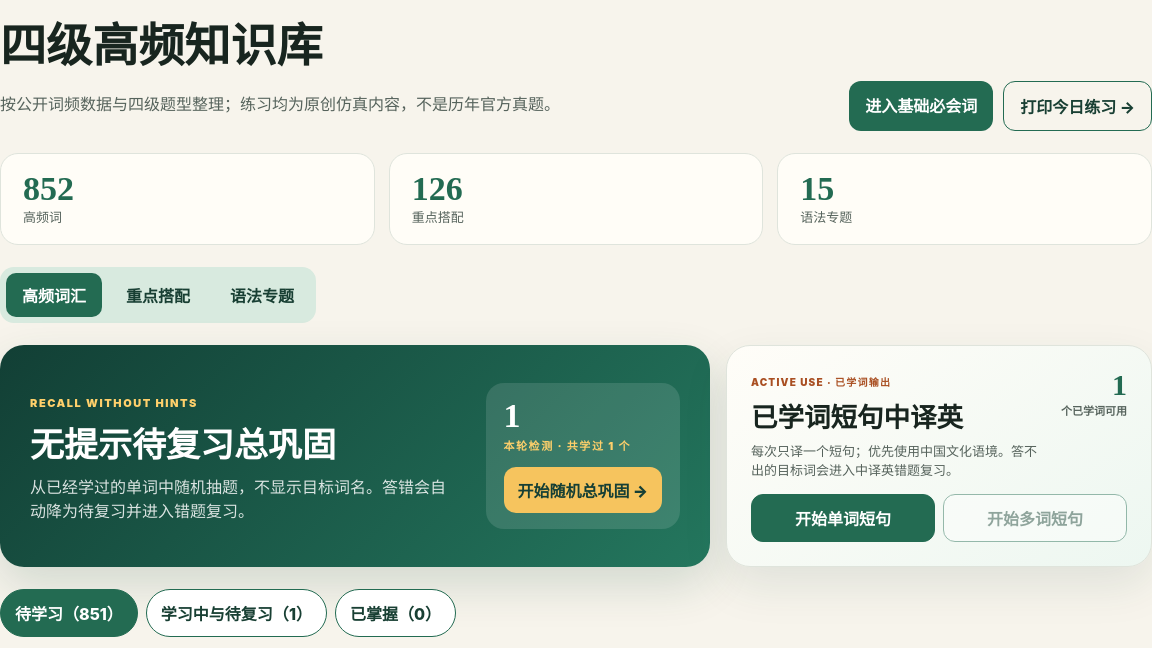
Test: KnowledgePage › does not create a mistake when a meaning answer reaches the displayed threshold
Click the button with aria-label "开始待复习词总巩固" at (583, 490), box [504,467,662,513]
(page scrolled)
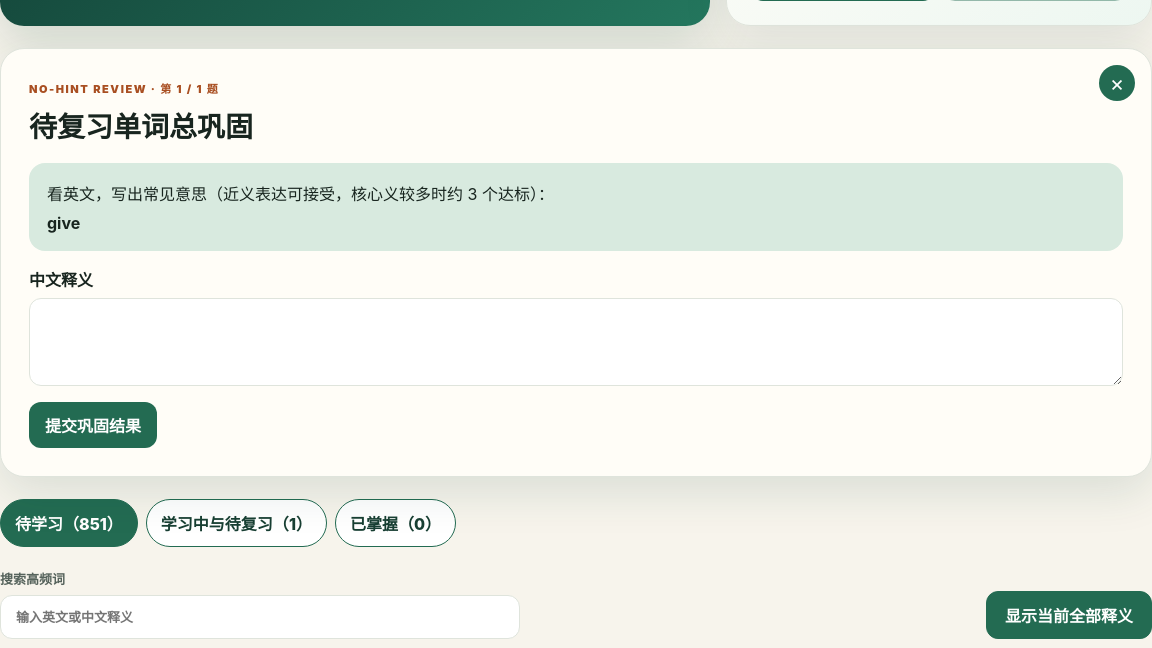
Type "给；通过；举办；让步" into the text box named "中文释义答案" at (576, 342), box [29,298,1123,386]
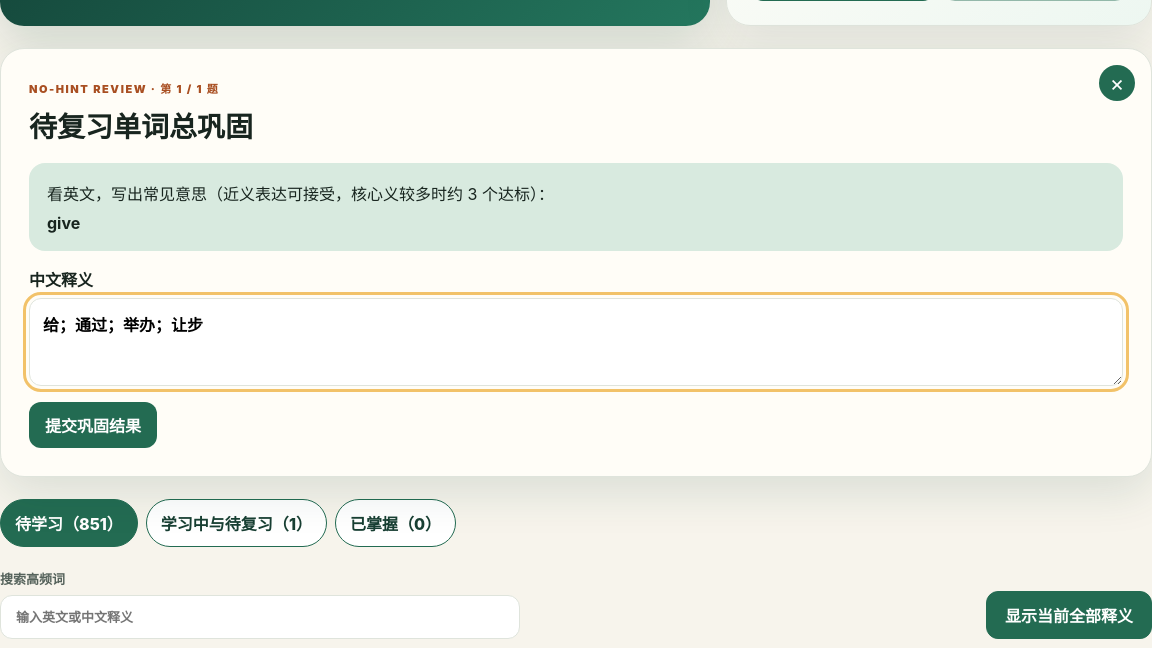
Click the button "提交巩固结果" at (93, 425), box [29,402,157,448]
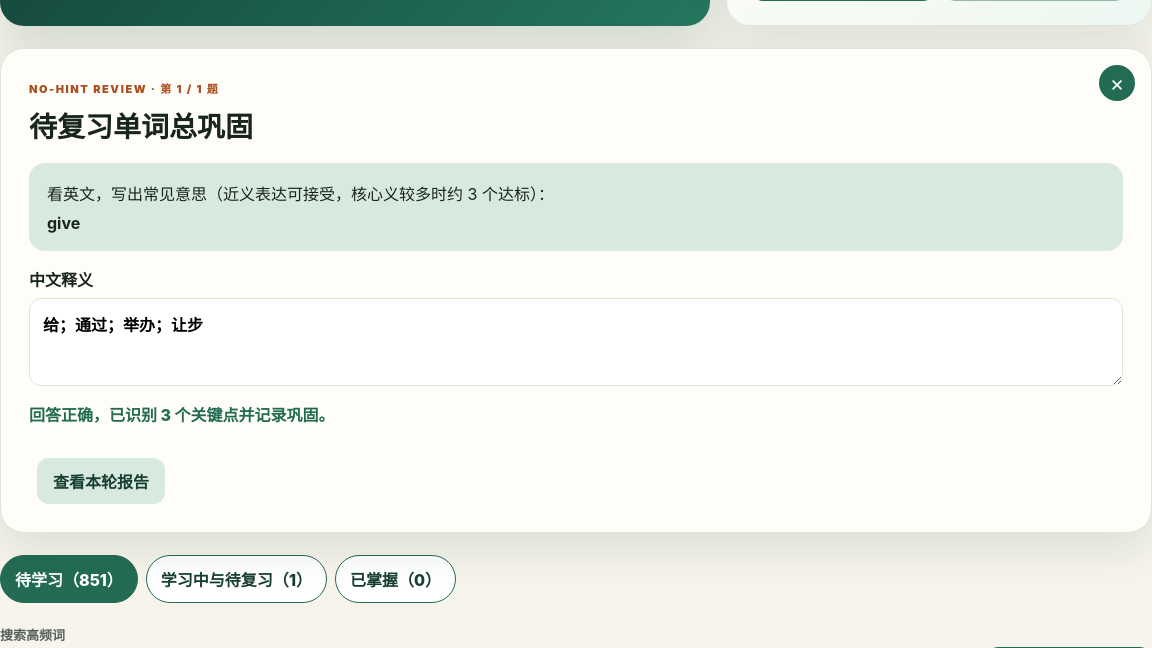
Now the text "回答正确，已识别 3 个关键点并记录巩固。" is shown, box [29,405,334,425]
